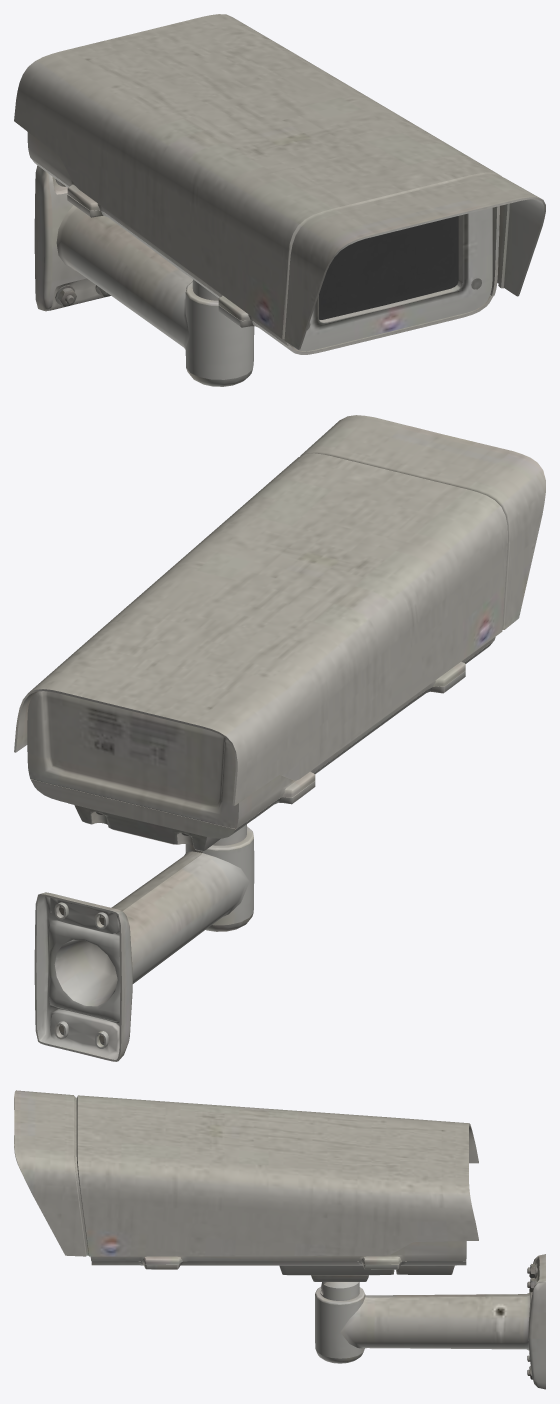
File: camera.glb
3 views of the same model, one above another, from view 1: azimuth 30°, elevation 25°; view 2: azimuth 150°, elevation 25°; view 3: azimuth 270°, elevation 25° (orthographic). The views are drawn at different scales.
Parts seen in each view (by area): view 1: body; view 2: body; view 3: body.
Boxes of the visible parts, x1,y1,x2,y2 form: body: [14, 14, 545, 386]; body: [14, 415, 545, 1061]; body: [14, 1090, 545, 1389].
Bounding box in the file's own units: 0.0536 × 0.0795 × 0.15.
2 materials, 2 textured.
